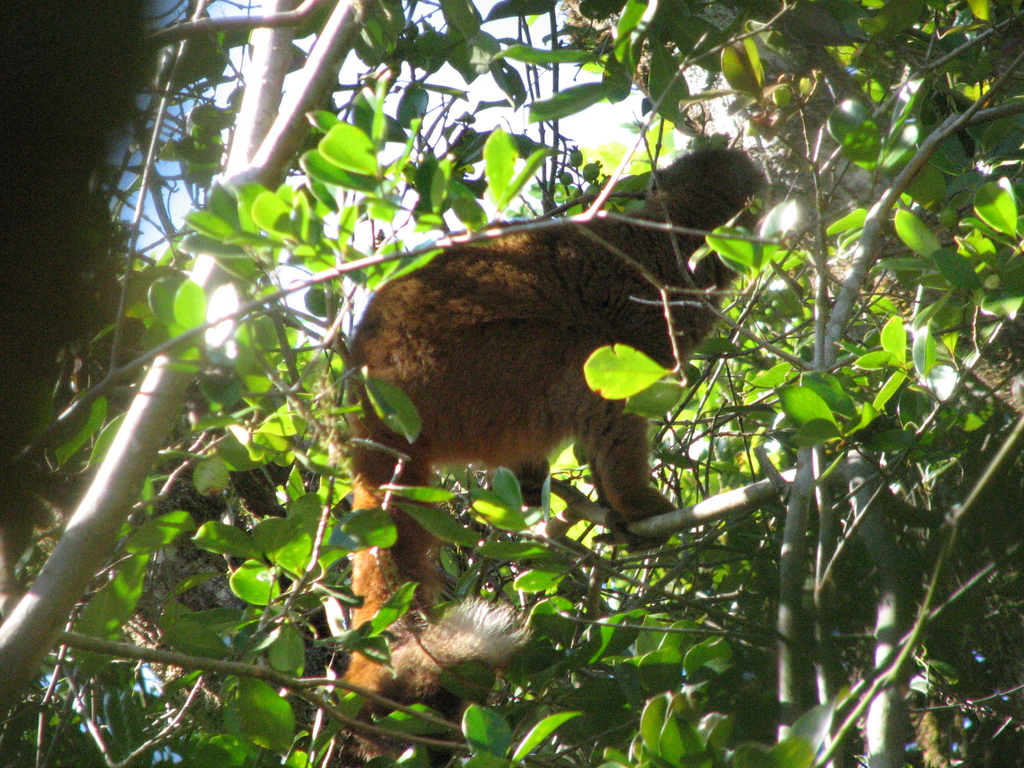Animal: (341, 142, 772, 705)
